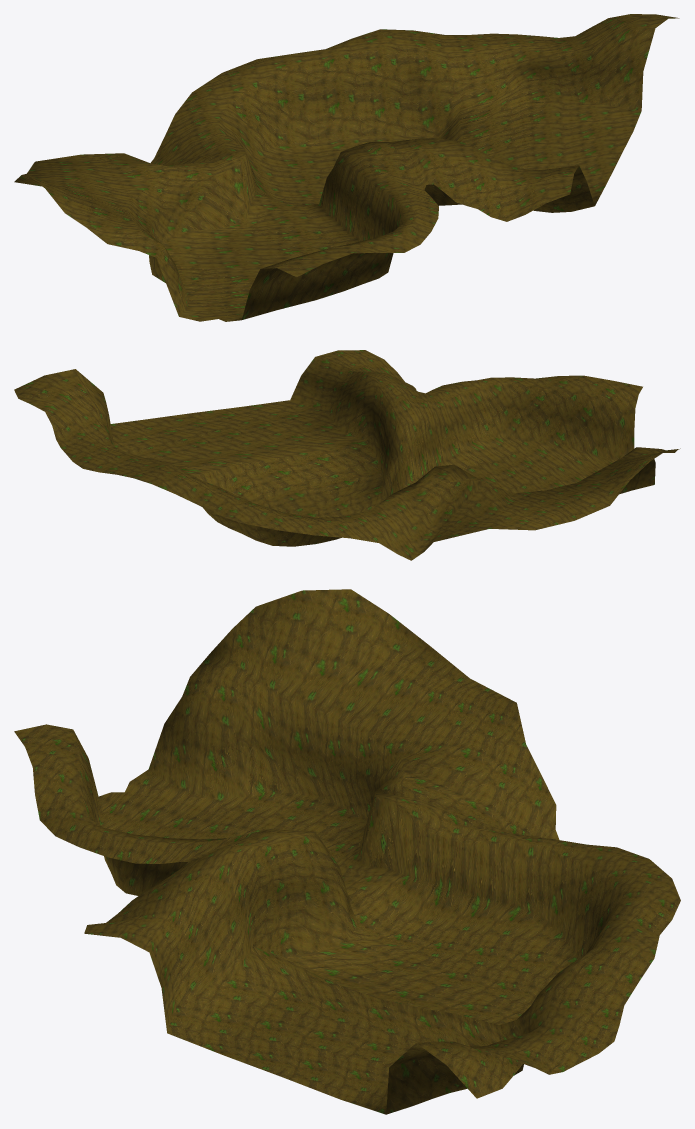
File: MIRKWOOD_AREA3.fbx
The picture shows the model from 3 angles, top to bottom: view 1: azimuth 30°, elevation 25°; view 2: azimuth 150°, elevation 25°; view 3: azimuth 270°, elevation 25°; orthographic projection. The views are drawn at different scales.
Parts seen in each view (by area): view 1: MIRKWOOD_AREA3; view 2: MIRKWOOD_AREA3; view 3: MIRKWOOD_AREA3.
Part boxes in pixels (x1,y1,x2,y2): MIRKWOOD_AREA3: (14,14,679,321); MIRKWOOD_AREA3: (14,350,680,560); MIRKWOOD_AREA3: (14,589,680,1114).
Bounding box in the file's own units: 778563 × 131327 × 495563.
Materials: 1 (1 with a texture image).
